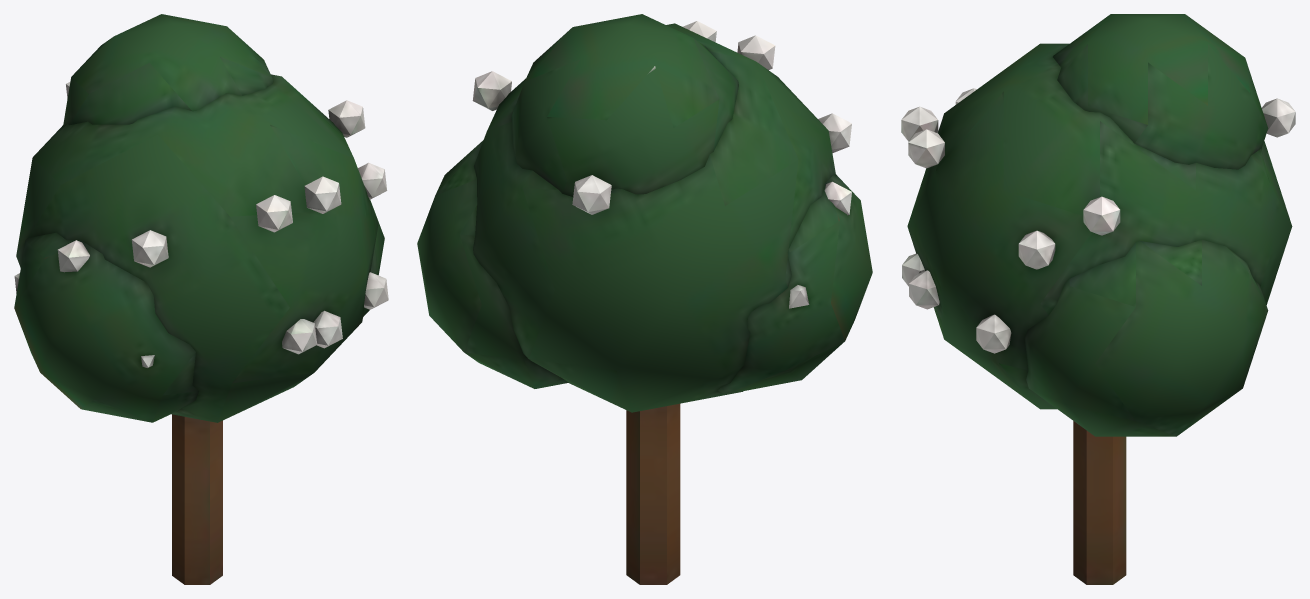
File: magnolia.glb
3 views of the same model, side by side, from view 1: azimuth 30°, elevation 25°; view 2: azimuth 150°, elevation 25°; view 3: azimuth 270°, elevation 25° (orthographic). The views are drawn at different scales.
Visible parts, largest first — view 1: magnolia; view 2: magnolia; view 3: magnolia.
Part boxes in pixels (x1=…): magnolia: x1=14, y1=14, x2=388, y2=584; magnolia: x1=417, y1=14, x2=872, y2=584; magnolia: x1=901, y1=14, x2=1295, y2=584.
Size of the model in its own units: 3.59 by 5.1 by 3.28.
1 material, 1 textured.
